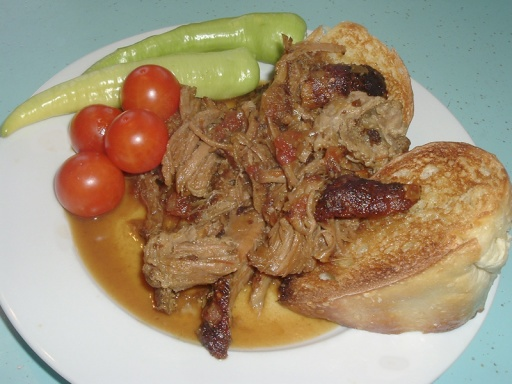background: (0, 7, 410, 215)
